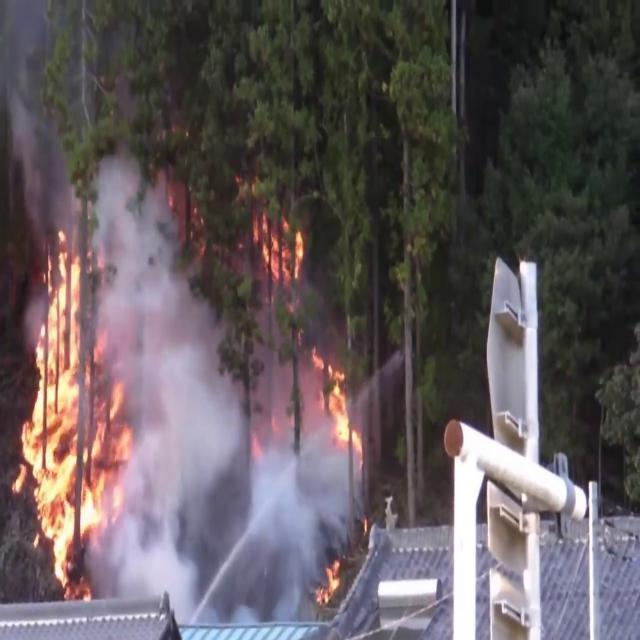Fire: (10, 230, 132, 584), (252, 195, 307, 288), (316, 342, 362, 450)
Smoke: (88, 126, 247, 627), (212, 416, 371, 616)
